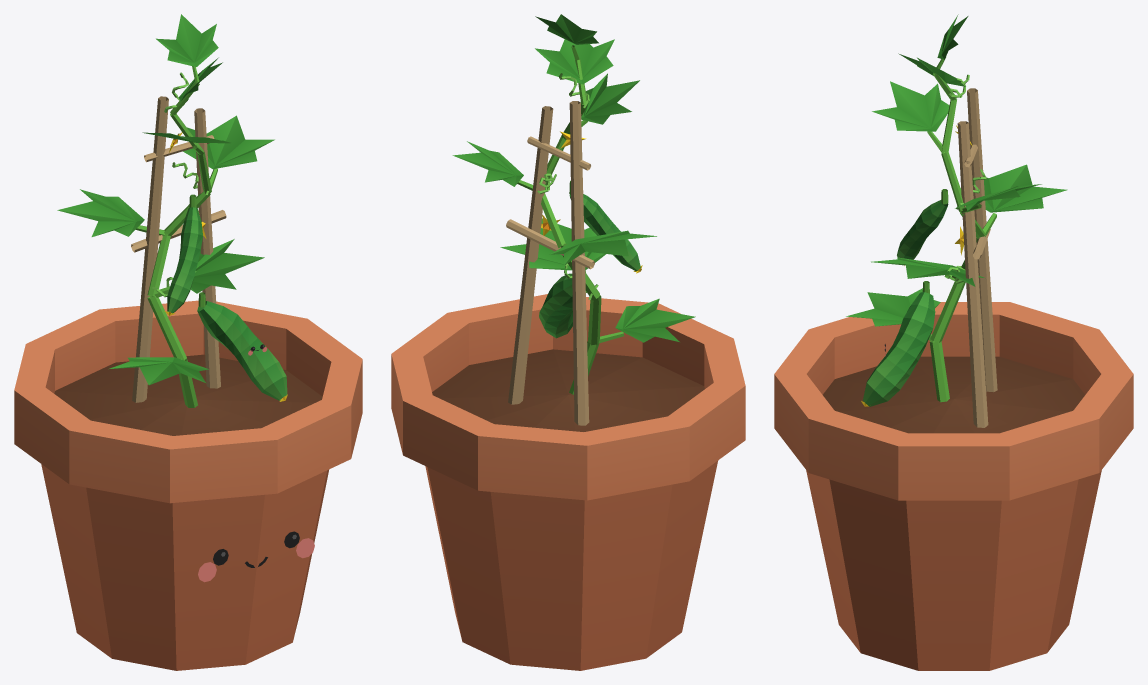
File: cute_cucumber_pot_ready.glb
3 views of the same model, side by side, from view 1: azimuth 30°, elevation 25°; view 2: azimuth 150°, elevation 25°; view 3: azimuth 270°, elevation 25° (orthographic).
Parts seen in each view (by area): view 1: CuteCucumberPot; view 2: CuteCucumberPot; view 3: CuteCucumberPot.
Part boxes in pixels (x1,y1,x2,y2): CuteCucumberPot: (14, 14, 362, 670); CuteCucumberPot: (391, 14, 745, 670); CuteCucumberPot: (774, 14, 1133, 670).
Bounding box in the file's own units: 0.3709 × 0.7292 × 0.39.
